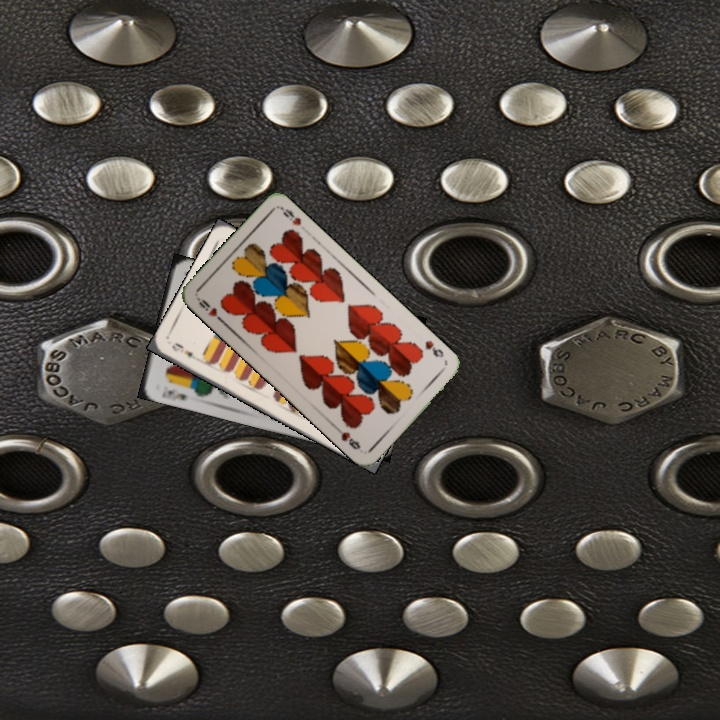E9: (168, 338, 203, 364)
EK: (157, 386, 191, 402)
H9: (193, 293, 227, 325), (421, 336, 446, 360)
